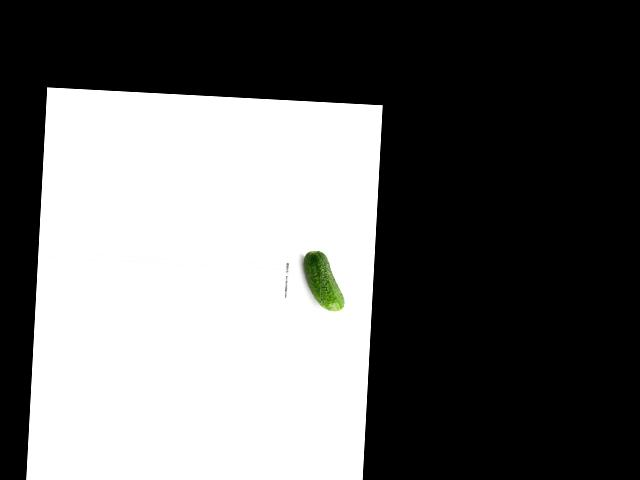cucumber: (300, 250, 347, 311)
